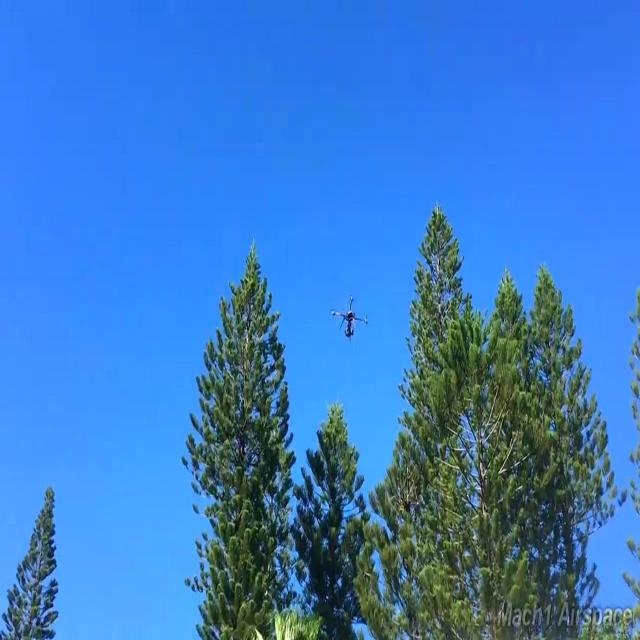drone: (330, 295, 369, 341)
